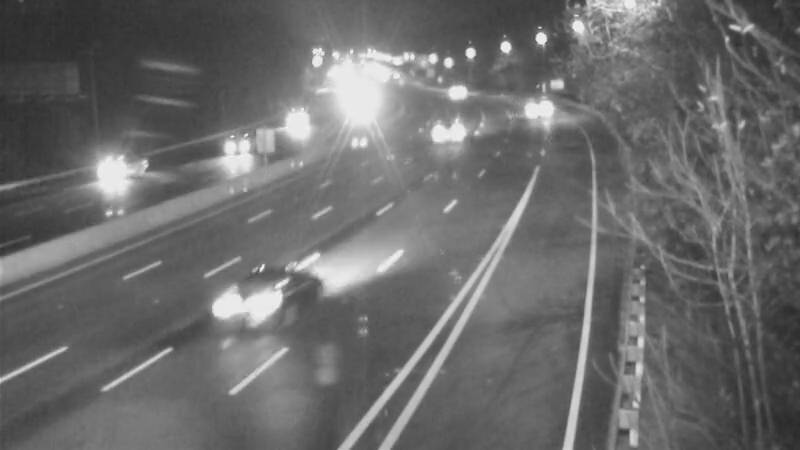vehicle: (76, 133, 156, 213), (434, 69, 484, 119), (510, 80, 560, 130), (423, 105, 473, 155), (228, 275, 278, 325), (212, 121, 262, 171), (270, 102, 320, 152)
